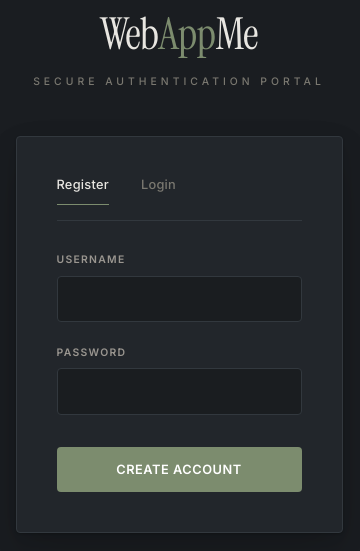
Scenario: App › switches to login tab
Step 1. Click the button "Login" → (158, 190), box [141,177,176,204]
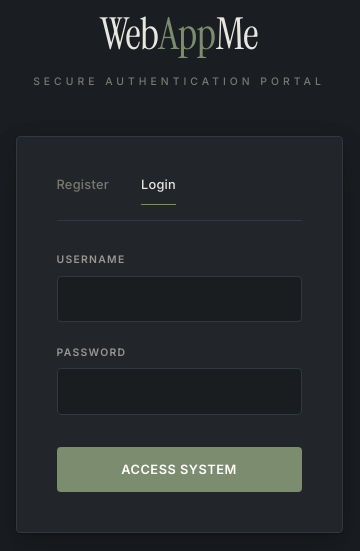
Expected: the button "Access System" is shown, [56,447,302,492]
